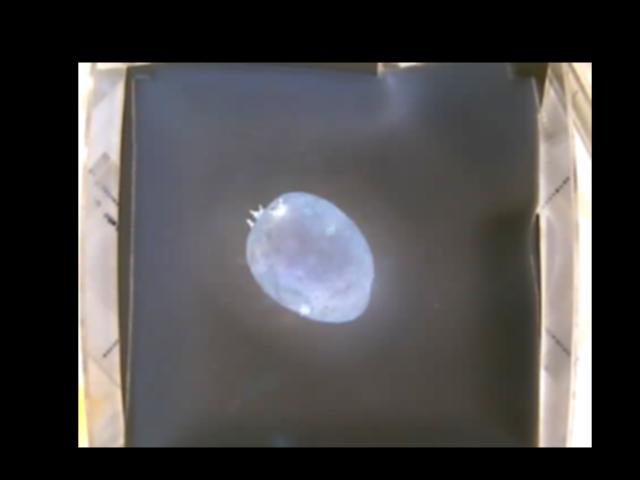Potato: (245, 190, 372, 319)
